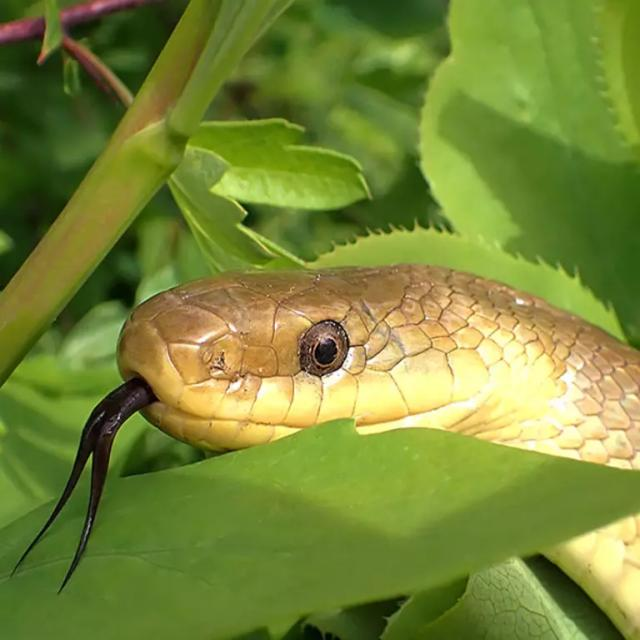Snake: (24, 264, 640, 576)
